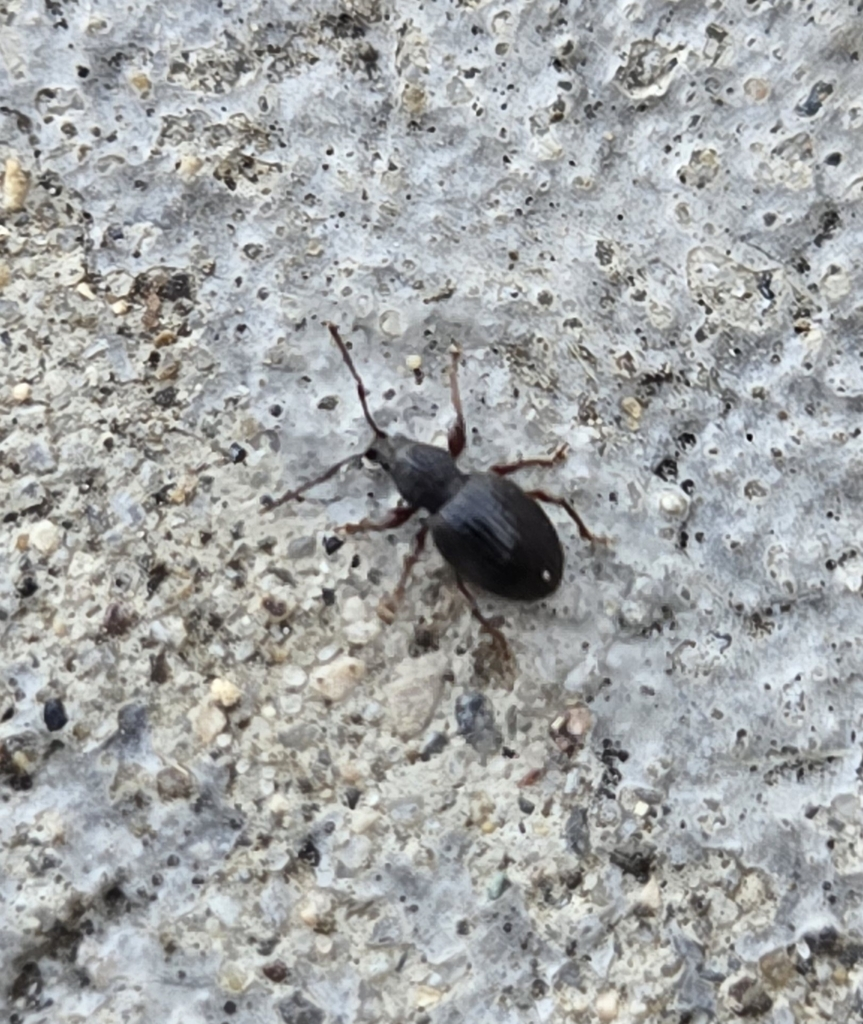weevils: (211, 248, 669, 727)
